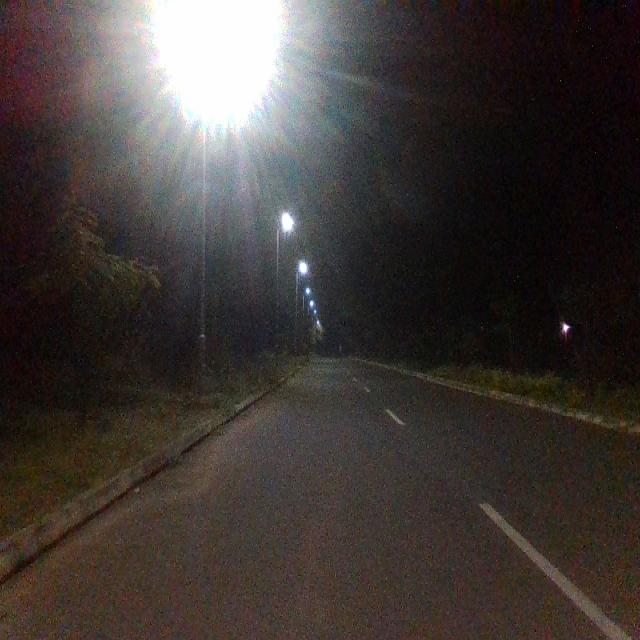lane: (0, 371, 611, 640)
